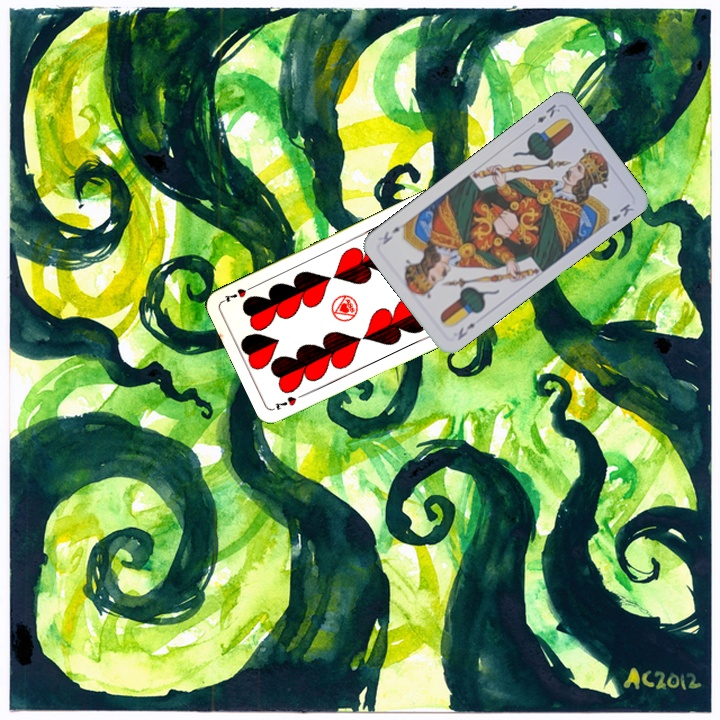EK: (533, 100, 562, 126), (453, 319, 478, 343)
H7: (271, 389, 308, 413)
